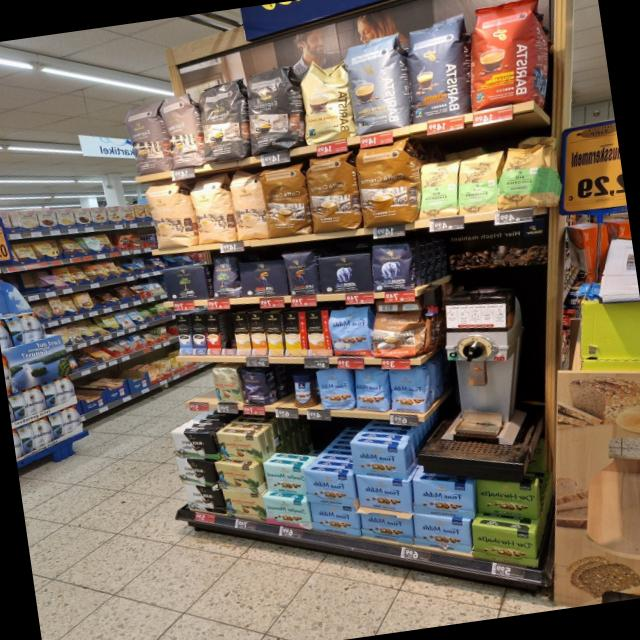AB Bohne: (370, 241, 414, 294)
AB Gemahlen: (317, 252, 372, 296)
Athiopien Bohne: (497, 143, 545, 212)
Athiopien Gemahlen: (456, 150, 501, 219), (414, 156, 460, 222)
BM Bohne: (206, 255, 238, 299)
BM Gemahlen: (159, 262, 210, 301)
BW Gemahlen: (168, 428, 216, 459), (184, 483, 226, 515), (175, 457, 216, 488)
Barista CB: (297, 58, 354, 146)
Barista CC: (340, 30, 408, 137)
Barista Espresso: (405, 9, 469, 125)
Barista Kolumbien: (468, 0, 546, 113)
C Fino Bohne: (238, 368, 273, 405)
CC Mild: (143, 179, 193, 252), (188, 172, 237, 246), (226, 166, 268, 244)
CC Vollmundig: (367, 309, 429, 362)
CC Vollmundig 36 Pads: (354, 137, 414, 229), (304, 149, 359, 235), (257, 160, 310, 240)
Colombia BB Bohne: (209, 365, 242, 404)
Colombia BB Gemahlen: (215, 430, 264, 465), (213, 461, 261, 495), (221, 489, 264, 524)
Espresso Aromatisch: (119, 98, 171, 178), (157, 89, 205, 172)
Espresso Kraftig: (243, 59, 300, 157), (197, 74, 249, 168)
FM 36 Pads: (326, 306, 376, 361)
FM Bohne: (387, 367, 429, 414), (312, 369, 354, 411), (352, 370, 388, 413)
FM Gemahlen: (412, 477, 474, 520), (412, 512, 471, 555), (355, 474, 413, 515), (348, 441, 408, 480), (303, 468, 356, 508), (358, 508, 413, 546), (308, 502, 361, 537)
FM Instant: (288, 372, 318, 408)
Herzhatfe Mundig: (473, 523, 537, 568), (475, 478, 539, 520)
LG Bohne: (281, 248, 319, 298)
LG Gemahlen: (235, 258, 288, 297)
SM Gemahlen: (261, 493, 310, 529), (261, 461, 306, 499)
Simo CCMild: (283, 311, 308, 356)
Simo CCMild bigpack: (264, 313, 284, 356)
Simo CCVollmundig: (305, 310, 333, 357)
Simo CCVollmundig bigpack: (248, 312, 268, 356)
Simo Decaff: (231, 312, 251, 355)
Simo Es Brazil: (204, 313, 221, 355)
Simo Es Caramel: (190, 314, 207, 354)
Simo Es Vanilla: (175, 314, 192, 354)
